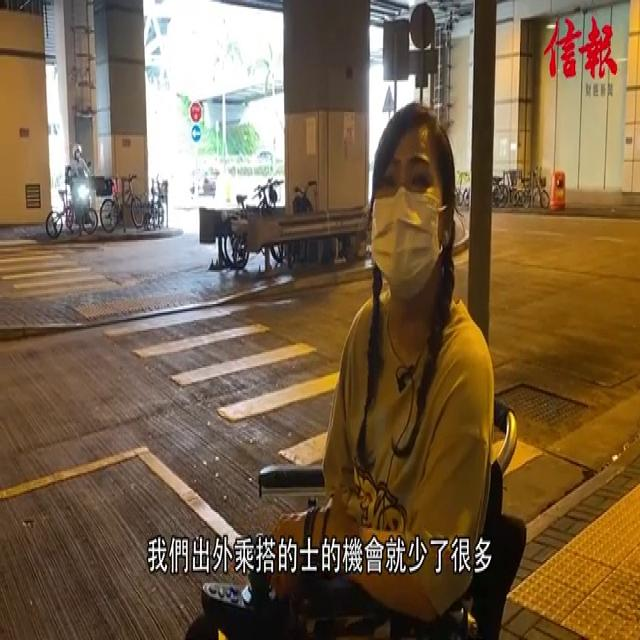wheelchairs: (200, 376, 532, 640)
